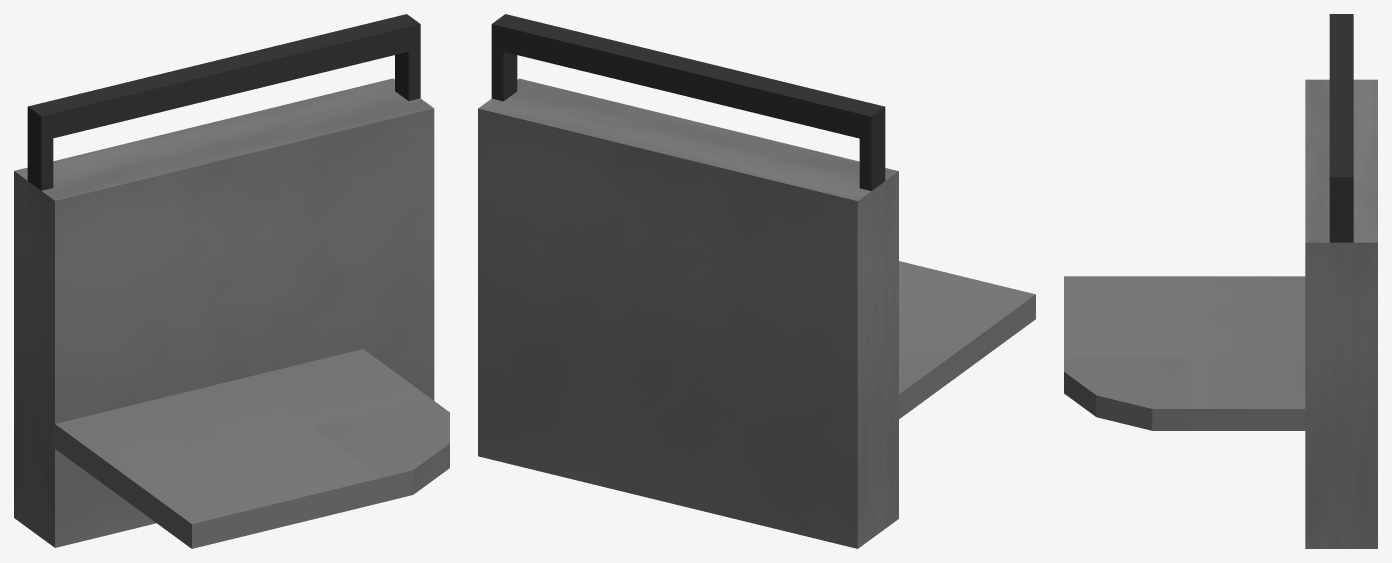
Rendered from dc_metro_fence_013.obj.
The picture shows the model from 3 angles, left to right: view 1: azimuth 30°, elevation 25°; view 2: azimuth 150°, elevation 25°; view 3: azimuth 270°, elevation 25°; orthographic projection. The views are drawn at different scales.
Parts seen in each view (by area): view 1: cube, cylinder; view 2: cube; view 3: cube, cylinder.
Boxes of the visible parts, x1,y1,x2,y2 form: cube: [14, 14, 434, 548]; cylinder: [313, 399, 449, 509]; cube: [478, 14, 1035, 548]; cube: [1064, 14, 1377, 548]; cylinder: [1064, 358, 1216, 430].
Size of the model in its own units: 1 by 1.06 by 0.8125.
Materials: 2 (2 with a texture image).
